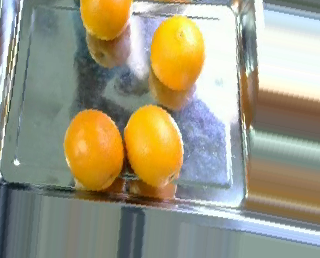Orange: (62, 107, 123, 190), (124, 104, 184, 187), (150, 14, 205, 89)
